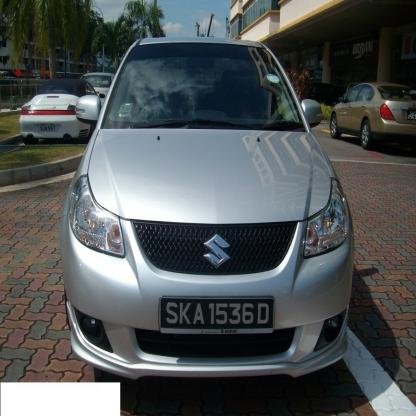Vehicle: (58, 33, 358, 387)
